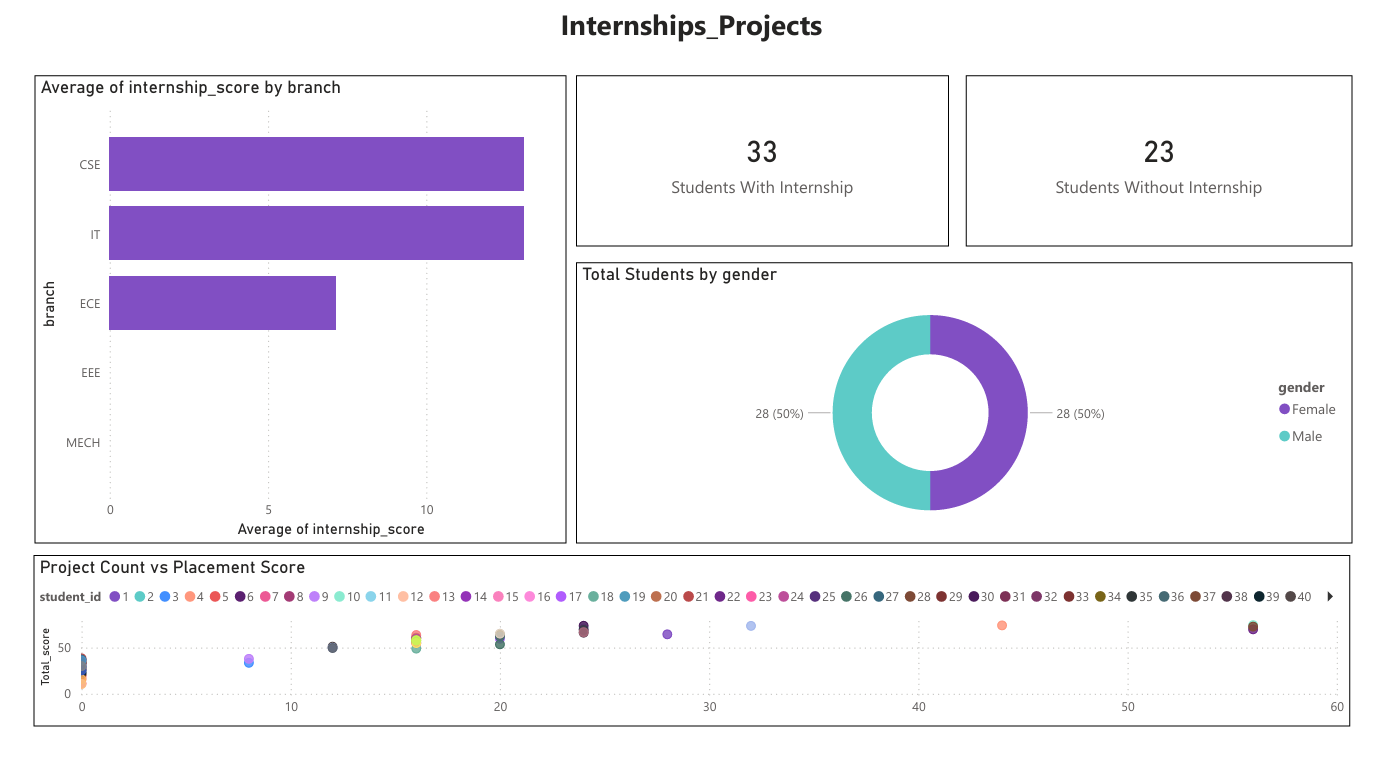

Layout of this report page (visuals, bound fields, positions):
{"tool":"powerbi","page":{"name":"Internships_Projects","canvas":[1280,720],"ordinal":3},"visuals":[{"type":"textbox","box":[9.4,17,1256.7,56.7],"z":0},{"type":"clusteredBarChart","fields":{"Category":["Main_Data.branch"],"Y":["Avg(Main_Data.internship_score)"]},"box":[9.4,88.8,508.4,447.9],"z":1000},{"type":"card","fields":{"Values":["Main_Data.Students With Internship"]},"box":[527.2,88.8,357.2,164.4],"z":2000},{"type":"scatterChart","title":"Project Count vs Placement Score","fields":{"Y":["Main_Data.Total_score"],"Series":["Main_Data.student_id"],"X":["Main_Data.internship_weeks"]},"box":[7.6,548,1260.5,164.4],"z":3000},{"type":"donutChart","fields":{"Category":["Main_Data.gender"],"Y":["Main_Data.Total Students"]},"box":[527.2,268.3,742.7,268.3],"z":4000},{"type":"card","fields":{"Values":["Main_Data.Students Without Internship"]},"box":[899.5,88.8,370.4,164.4],"z":5000}]}

Visuals, with their boxes in screenshot pixels (x1, y1, x2, y2), scaled from the page's 1280x720 canvas onto the 1386x758 screenshot:
textbox: 10,18,1371,78
clusteredBarChart - Main_Data.branch x Avg(Main_Data.internship_score): 10,93,561,565
card - Main_Data.Students With Internship: 571,93,958,267
"Project Count vs Placement Score" scatterChart: 8,577,1373,750
donutChart - Main_Data.gender x Main_Data.Total Students: 571,282,1375,565
card - Main_Data.Students Without Internship: 974,93,1375,267
